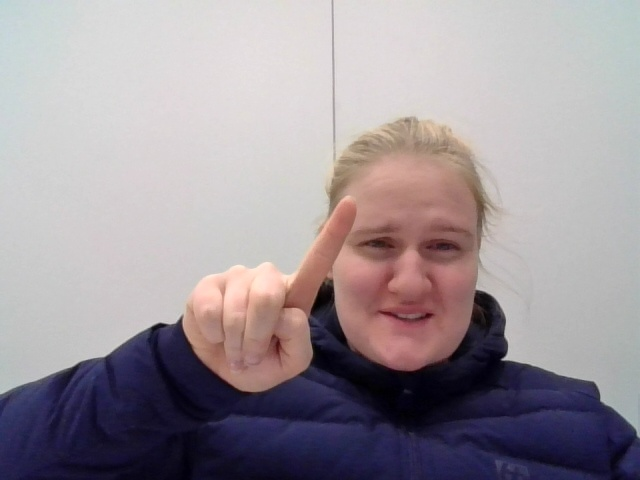up: (136, 183, 376, 400)
